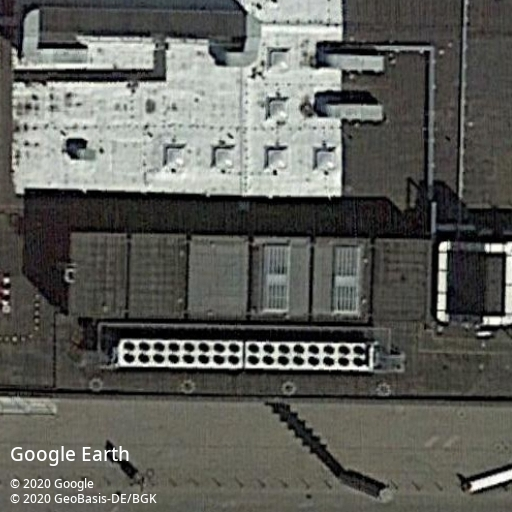Chiller: (116, 339, 244, 368), (245, 341, 367, 369)
